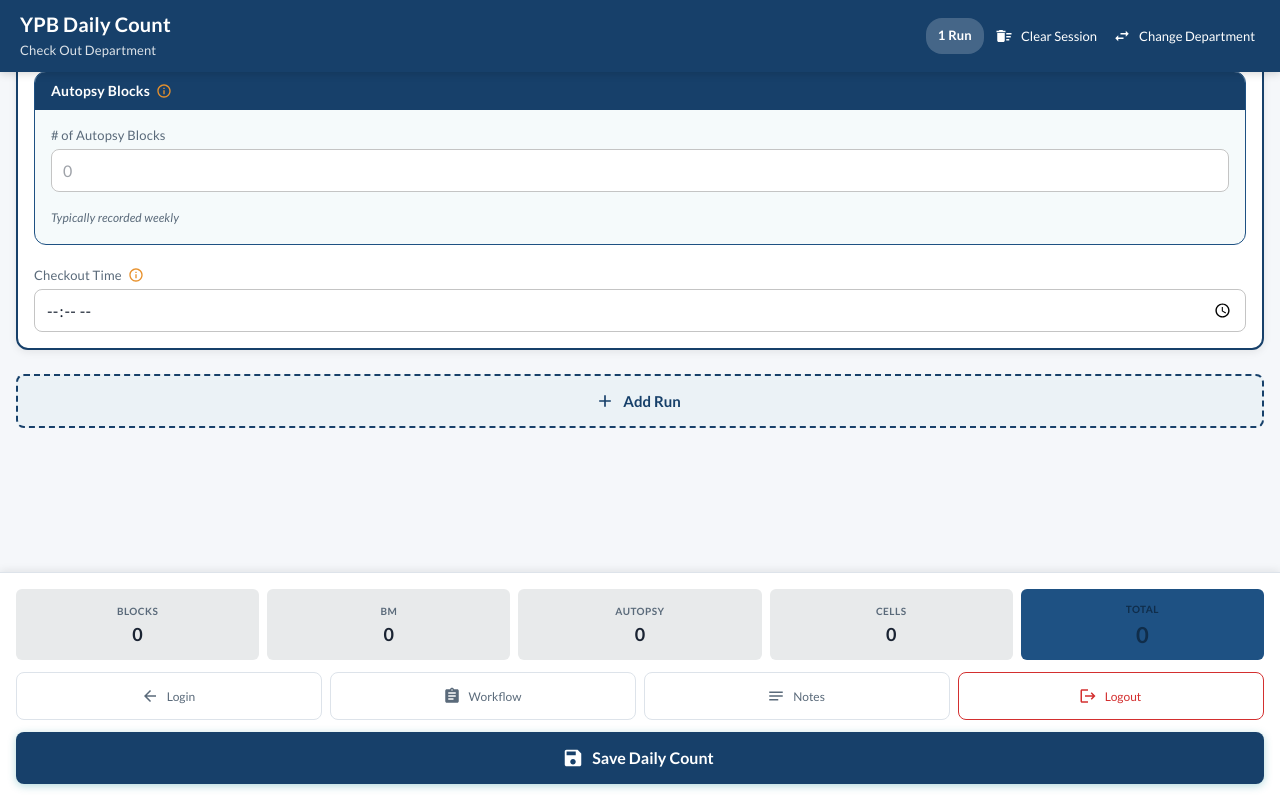
it: YPBDailyCountForm › Add Run › should add new run when Add Run clicked
The image size is (1280, 800).
(page scrolled)
Click the button "Add Run".
click(640, 401)  # box [16,374,1264,428]
(page scrolled)
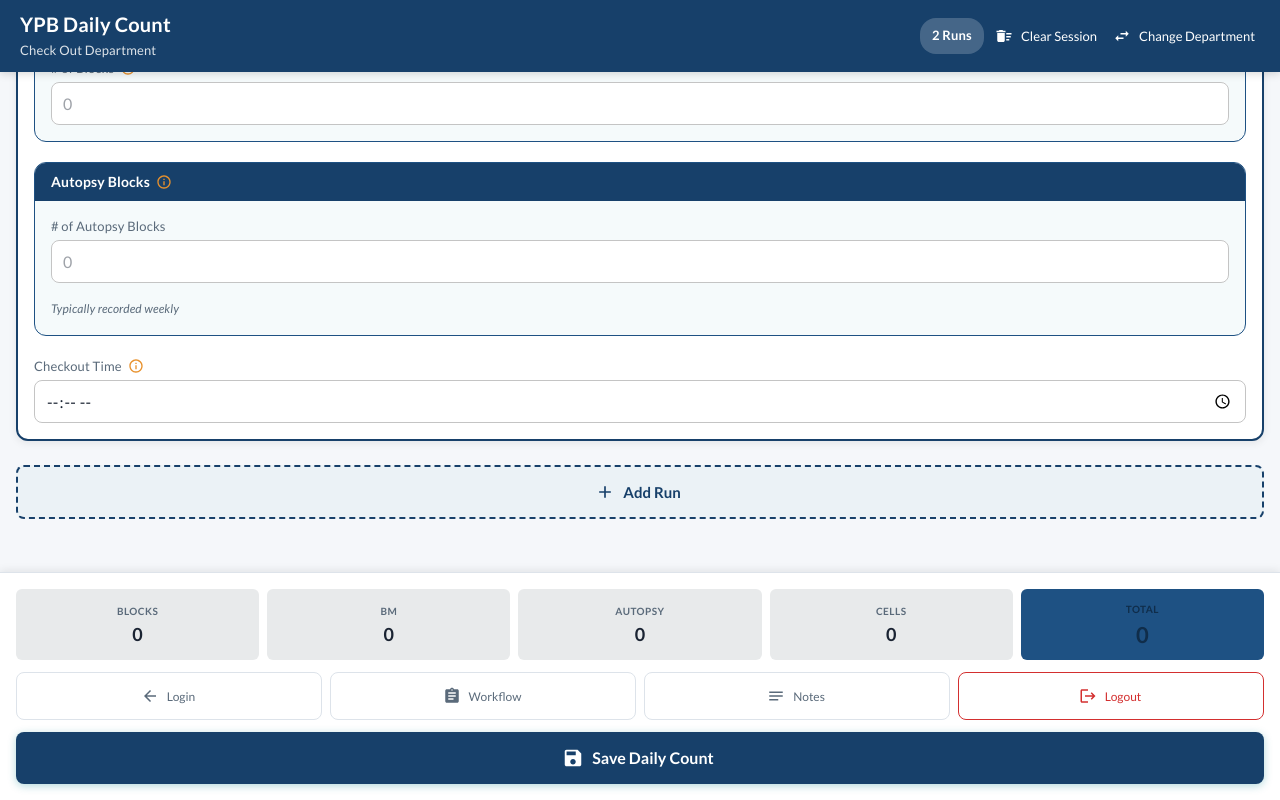
Check: the text "2 Runs" is shown, box [932,28,972,44]
